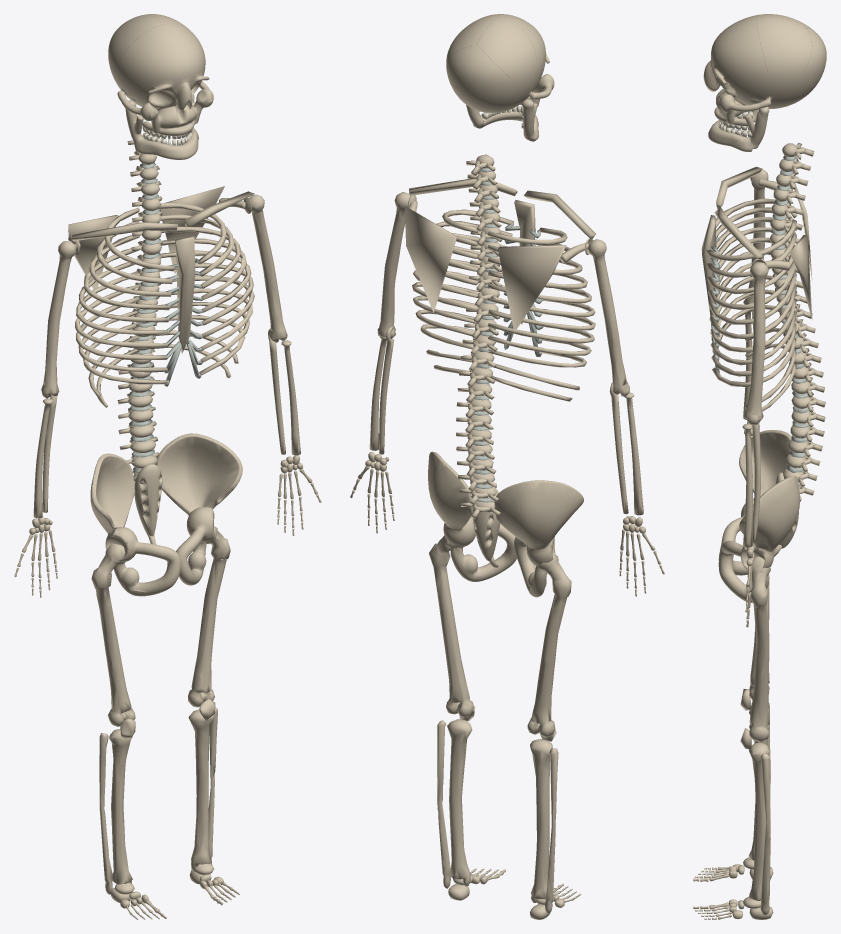
Rendered from lab-skeleton-v11-normal.glb.
The picture shows the model from 3 angles, left to right: view 1: azimuth 30°, elevation 25°; view 2: azimuth 150°, elevation 25°; view 3: azimuth 270°, elevation 25°; orthographic projection. The views are drawn at different scales.
Visible parts, largest first — view 1: skeleton-region-rib-cage, skeleton-region-pelvis, skeleton-skull-v8, skeleton-right-leg-v10, skeleton-region-spine, skeleton-left-leg-v10, skeleton-region-shoulder-girdle, skeleton-right-arm-v10, skeleton-left-arm-v10, skeleton-right-hand-v11, skeleton-left-hand-v11, skeleton-right-foot-v11 (+1 smaller); view 2: skeleton-region-rib-cage, skeleton-region-pelvis, skeleton-skull-v8, skeleton-region-spine, skeleton-region-shoulder-girdle, skeleton-left-leg-v10, skeleton-right-leg-v10, skeleton-right-arm-v10, skeleton-left-arm-v10, skeleton-right-hand-v11, skeleton-left-hand-v11, skeleton-left-foot-v11; view 3: skeleton-skull-v8, skeleton-region-rib-cage, skeleton-region-spine, skeleton-region-pelvis, skeleton-left-leg-v10, skeleton-left-arm-v10, skeleton-region-shoulder-girdle, skeleton-right-arm-v10, skeleton-left-foot-v11, skeleton-right-leg-v10, skeleton-right-foot-v11, skeleton-left-hand-v11.
Part boxes in pixels (x1,y1,x2,y2): skeleton-region-rib-cage: (75, 202, 254, 407); skeleton-region-pelvis: (90, 433, 242, 596); skeleton-skull-v8: (108, 14, 213, 159); skeleton-right-leg-v10: (91, 543, 135, 894); skeleton-region-spine: (117, 135, 162, 483); skeleton-left-leg-v10: (188, 526, 230, 872); skeleton-region-shoulder-girdle: (68, 186, 254, 289); skeleton-right-arm-v10: (33, 241, 76, 518); skeleton-left-arm-v10: (249, 194, 300, 455); skeleton-right-hand-v11: (14, 517, 57, 597); skeleton-left-hand-v11: (277, 455, 321, 535); skeleton-right-foot-v11: (110, 882, 166, 919); skeleton-region-rib-cage: (412, 200, 595, 401); skeleton-region-pelvis: (428, 451, 583, 597); skeleton-skull-v8: (446, 14, 554, 141); skeleton-region-spine: (456, 154, 502, 518); skeleton-region-shoulder-girdle: (404, 178, 595, 332); skeleton-left-leg-v10: (429, 535, 475, 888); skeleton-right-leg-v10: (527, 551, 571, 913); skeleton-right-arm-v10: (588, 239, 643, 515); skeleton-left-arm-v10: (369, 192, 410, 454); skeleton-right-hand-v11: (619, 516, 664, 596); skeleton-left-hand-v11: (350, 452, 394, 533); skeleton-left-foot-v11: (448, 868, 505, 900); skeleton-skull-v8: (703, 14, 826, 151); skeleton-region-rib-cage: (701, 198, 797, 418); skeleton-region-spine: (770, 143, 825, 501); skeleton-region-pelvis: (718, 430, 799, 602); skeleton-left-leg-v10: (740, 556, 770, 915); skeleton-left-arm-v10: (742, 262, 768, 547); skeleton-region-shoulder-girdle: (714, 167, 812, 319); skeleton-right-arm-v10: (743, 169, 768, 419); skeleton-left-foot-v11: (693, 896, 773, 919); skeleton-right-leg-v10: (740, 582, 770, 860); skeleton-right-foot-v11: (693, 857, 773, 881); skeleton-left-hand-v11: (744, 546, 754, 627).
Size of the model in its own units: 61.79 by 167 by 22.99.
